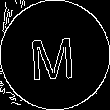M_N: (31, 28, 79, 82)
